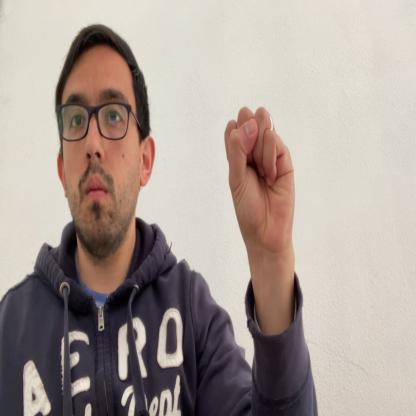S: (224, 106, 296, 251)
